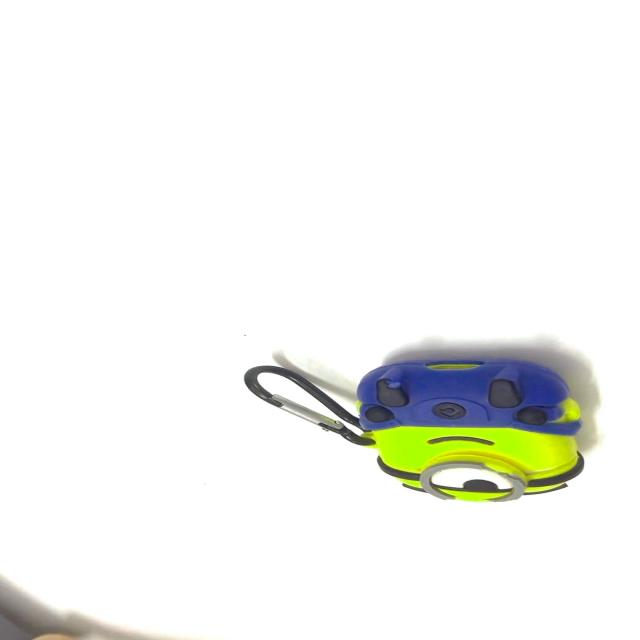airpod minion: (209, 322, 593, 511)
